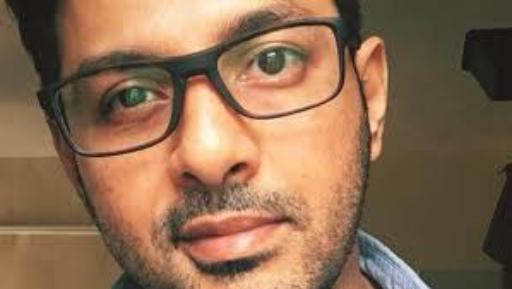left_eye: (249, 46, 311, 78)
left_lip_corner: (266, 212, 300, 230)
right_eye: (92, 82, 169, 118)
right_lip_corner: (178, 232, 203, 252)
